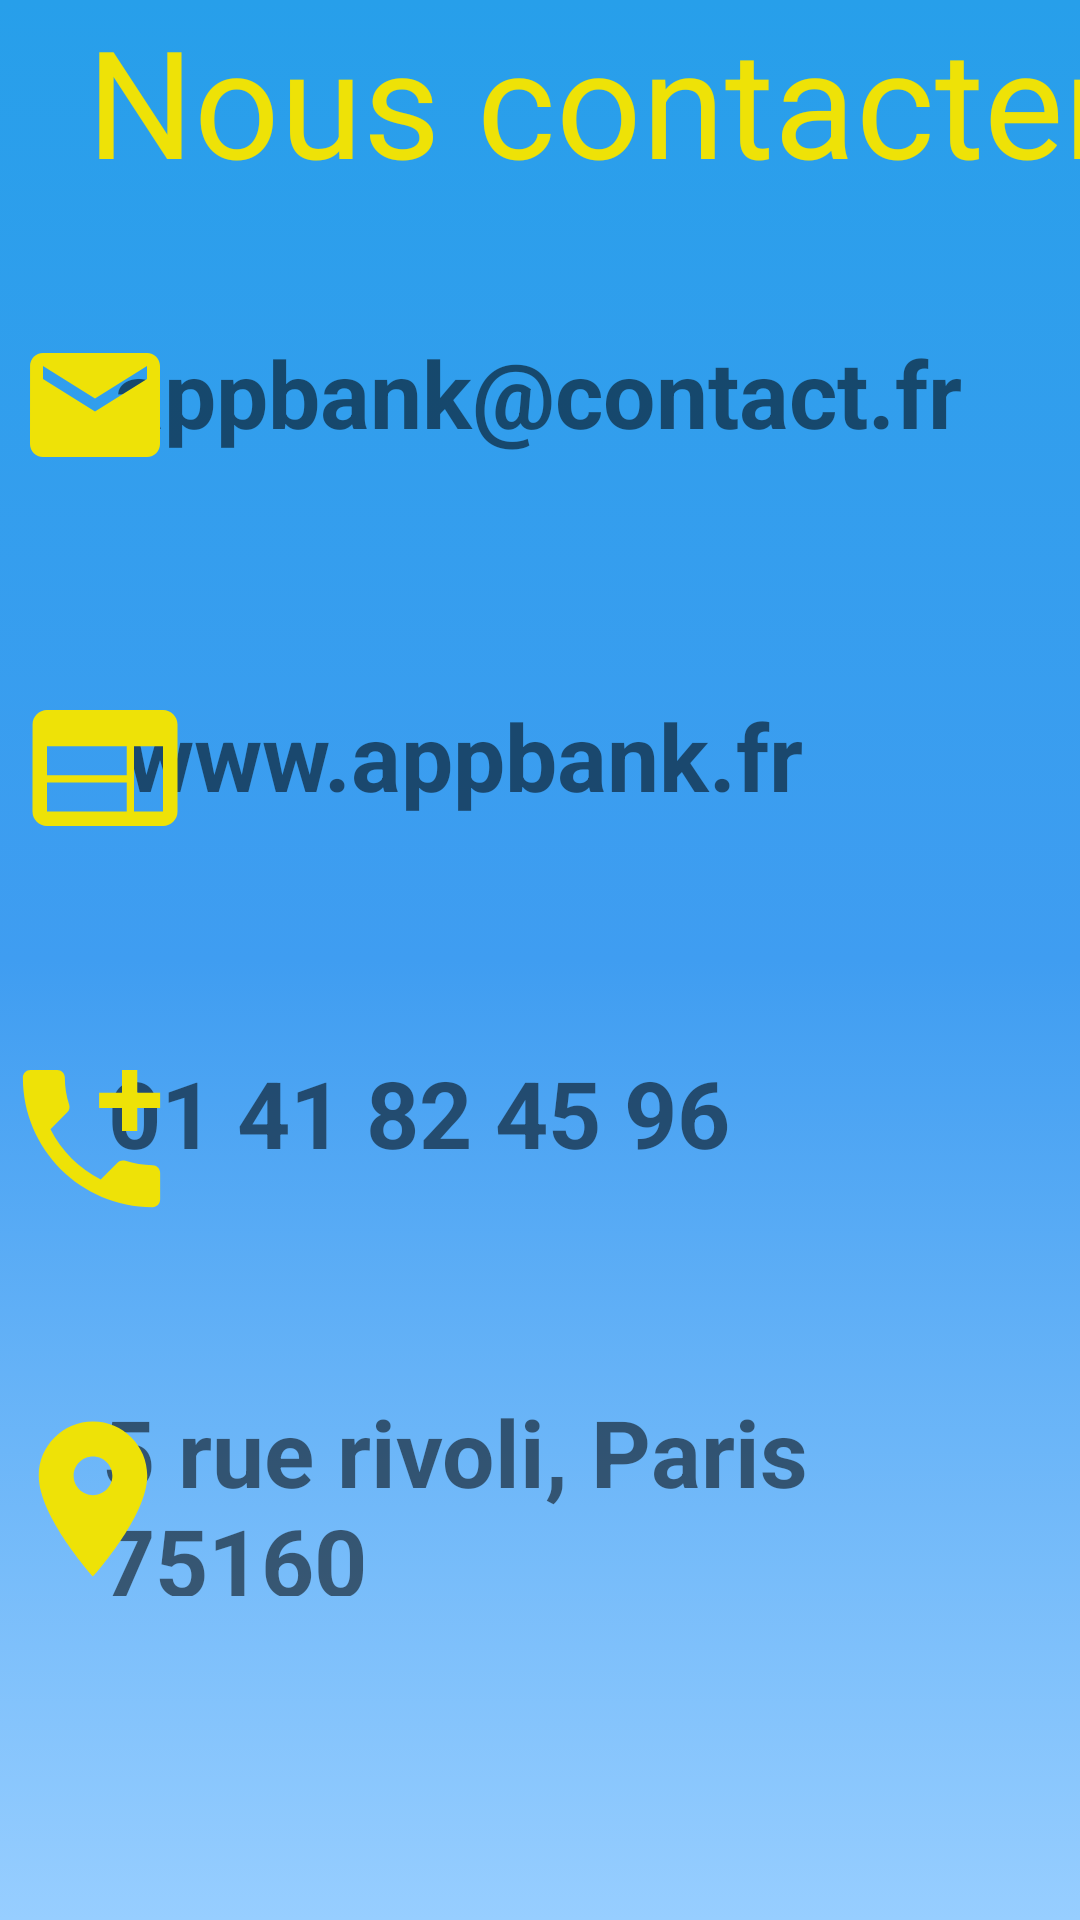

Where icons sit on this 1080px x 1920px app screen, as (x1, y1, x2, y2):
adresse: (38, 1421, 152, 1596)
email: (30, 353, 161, 457)
telephone: (0, 1070, 183, 1230)
web: (32, 710, 193, 826)
